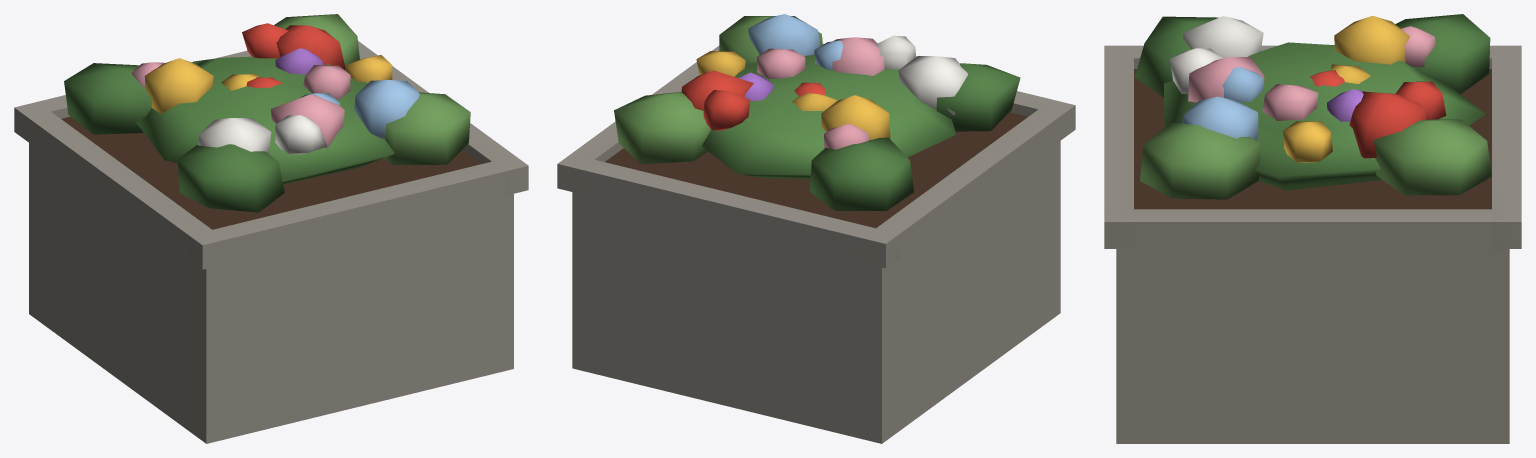
The model's file is flowerTub.far.glb.
3 views of the same model, side by side, from view 1: azimuth 30°, elevation 25°; view 2: azimuth 150°, elevation 25°; view 3: azimuth 270°, elevation 25° (orthographic). The views are drawn at different scales.
Parts seen in each view (by area): view 1: flowerTub; view 2: flowerTub; view 3: flowerTub.
Boxes of the visible parts, left/top/right/bottom form: flowerTub: left=14, top=14, right=528, bottom=443; flowerTub: left=557, top=14, right=1075, bottom=443; flowerTub: left=1104, top=14, right=1521, bottom=443.
Size of the model in its own units: 0.7 by 0.5733 by 0.7.
